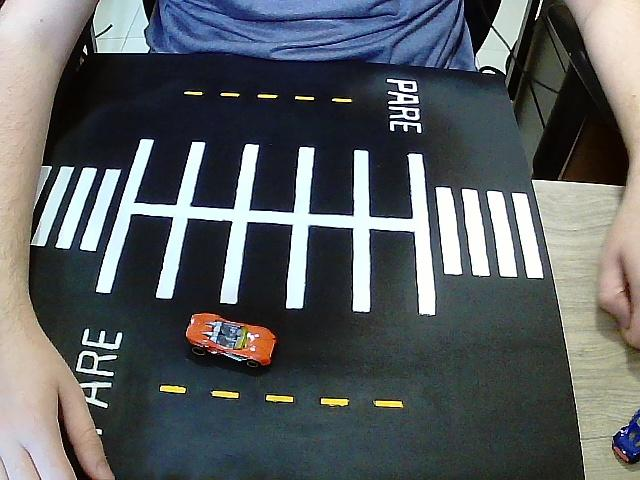Carro: (184, 313, 280, 371), (613, 408, 639, 467)
